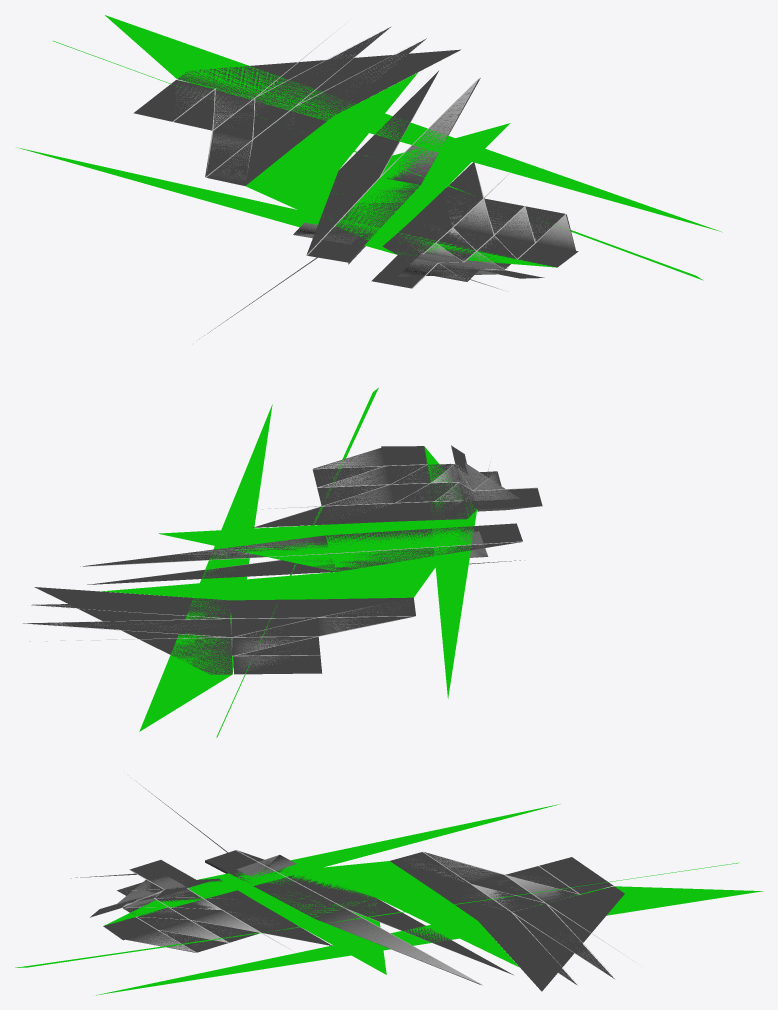
3 renders of one model, top to bottom at view 1: azimuth 30°, elevation 25°; view 2: azimuth 150°, elevation 25°; view 3: azimuth 270°, elevation 25°, orthographic. The views are drawn at different scales.
Size of the model in its own units: 47.79 by 0.201 by 67.38.
